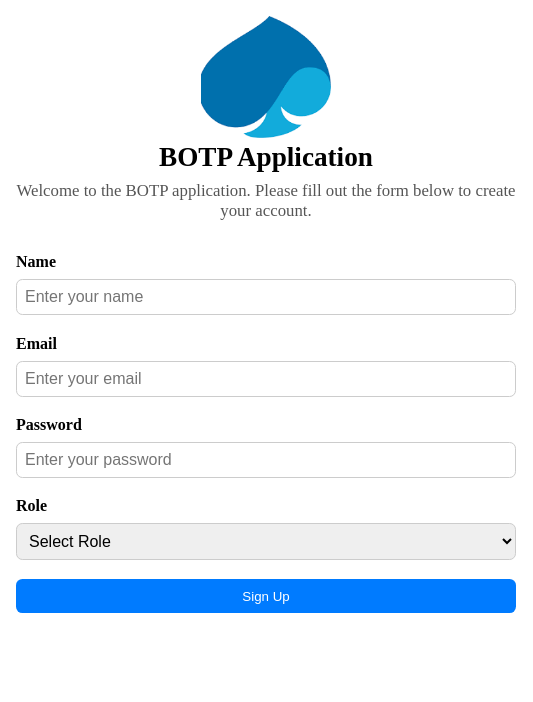
Scenario: SignupForm Component › shows validation errors when submitting empty form
This screenshot has width=533, height=702.
Click the button "Sign Up".
click(266, 596)  # box [16,579,516,613]
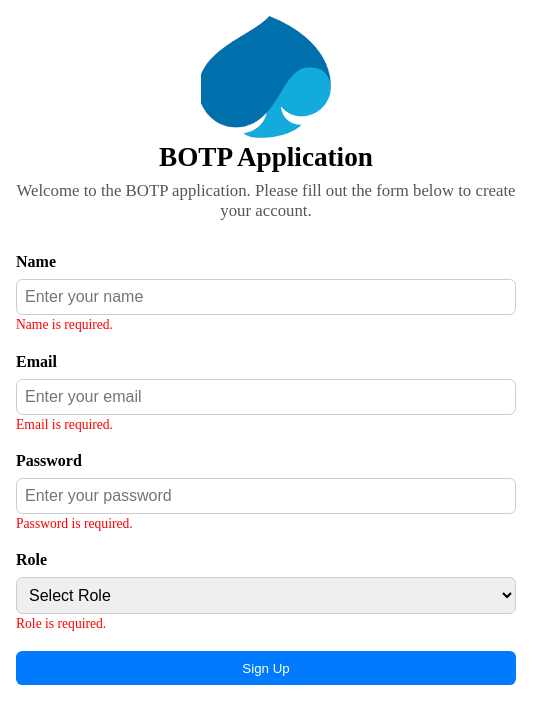
Check: the text "Name is required." is shown, box [16,317,113,332]
Check: the text "Email is required." is shown, box [16,416,113,432]
Check: the text "Password is required." is shown, box [16,516,133,531]
